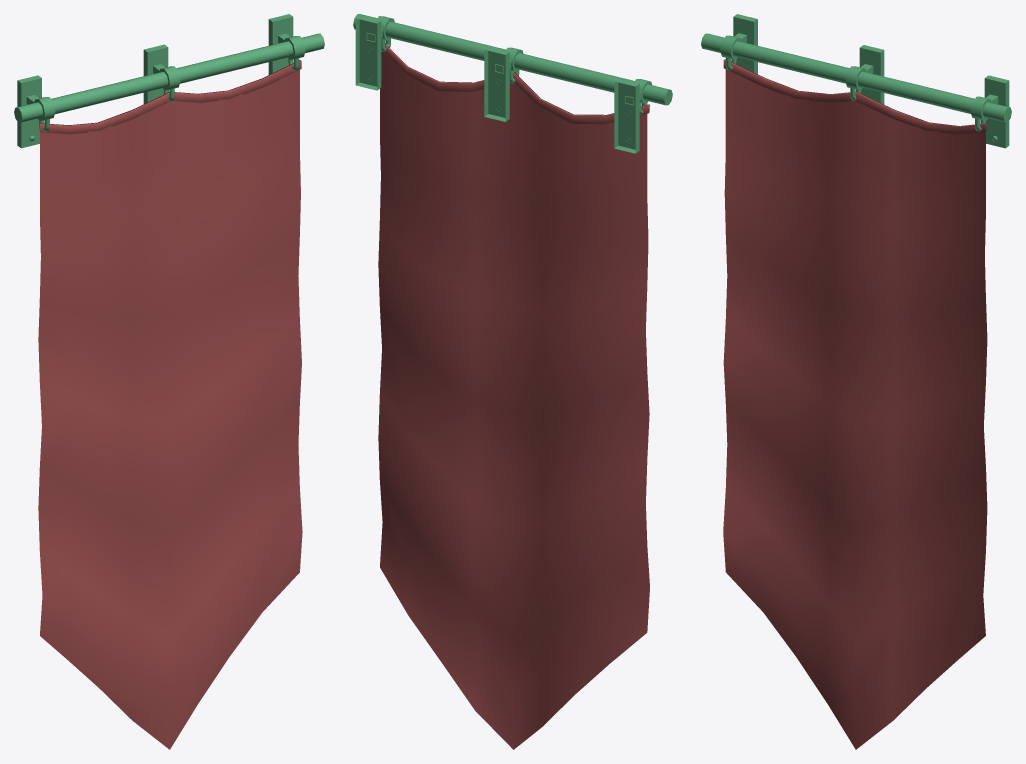
Rendered from SM_Fix_drap_01.fbx.
3 views of the same model, side by side, from view 1: azimuth 30°, elevation 25°; view 2: azimuth 150°, elevation 25°; view 3: azimuth 330°, elevation 25° (orthographic). The views are drawn at different scales.
Visible parts, largest first — view 1: SM_Drap_01, SM_Fix_drap_01; view 2: SM_Drap_01, SM_Fix_drap_01; view 3: SM_Drap_01, SM_Fix_drap_01.
Boxes of the visible parts, x1=… form: SM_Drap_01: x1=38, y1=60, x2=302, y2=749; SM_Fix_drap_01: x1=14, y1=14, x2=324, y2=148; SM_Drap_01: x1=378, y1=44, x2=649, y2=749; SM_Fix_drap_01: x1=353, y1=14, x2=672, y2=153; SM_Drap_01: x1=723, y1=59, x2=987, y2=749; SM_Fix_drap_01: x1=701, y1=14, x2=1011, y2=148.
Size of the model in its own units: 2.82 by 6.15 by 0.3595.
